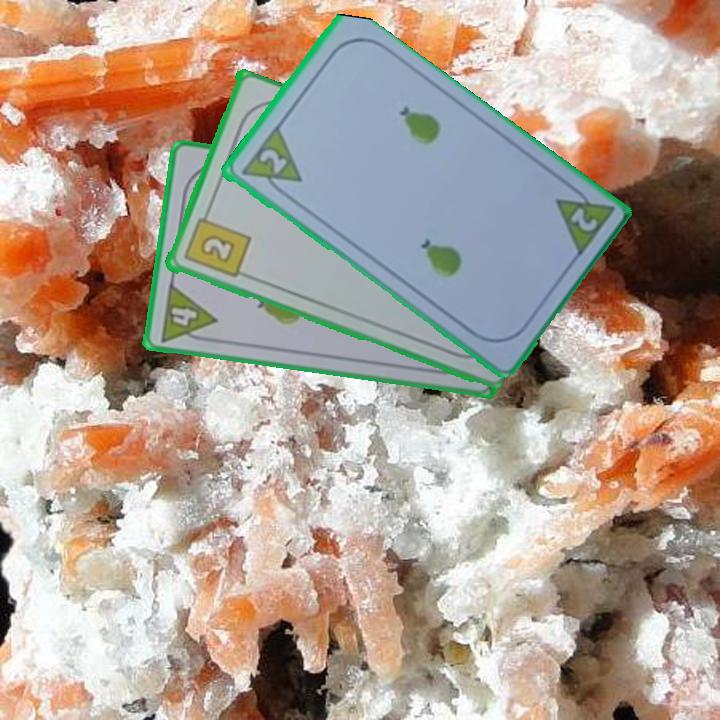2b: (180, 206, 253, 281)
2p: (236, 124, 305, 202), (565, 204, 600, 235)
4p: (157, 279, 219, 346)
